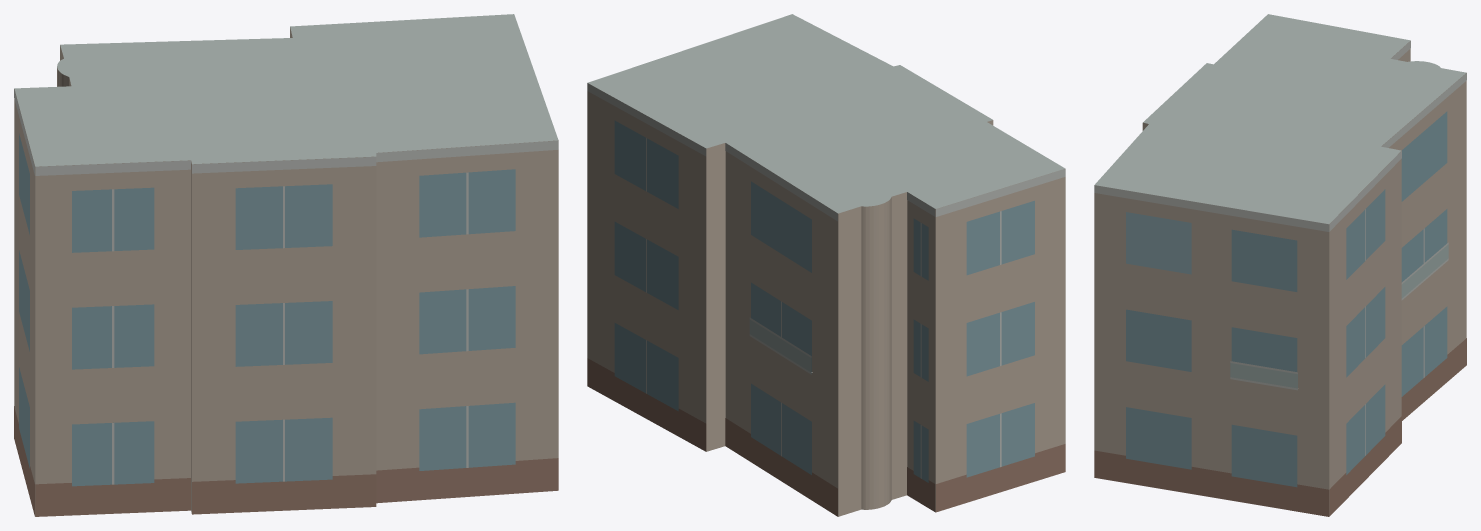
Rendered from survey-upis-32530272.glb.
3 views of the same model, side by side, from view 1: azimuth 30°, elevation 25°; view 2: azimuth 150°, elevation 25°; view 3: azimuth 270°, elevation 25° (orthographic). The views are drawn at different scales.
Parts seen in each view (by area): view 1: survey-upis-32530272.tmp; view 2: survey-upis-32530272.tmp; view 3: survey-upis-32530272.tmp.
Part boxes in pixels (box(x1,y1,x2,y2)): survey-upis-32530272.tmp: box(14, 14, 558, 516); survey-upis-32530272.tmp: box(587, 14, 1065, 516); survey-upis-32530272.tmp: box(1094, 14, 1466, 516).
Size of the model in its own units: 14.03 by 9.1 by 10.51.
